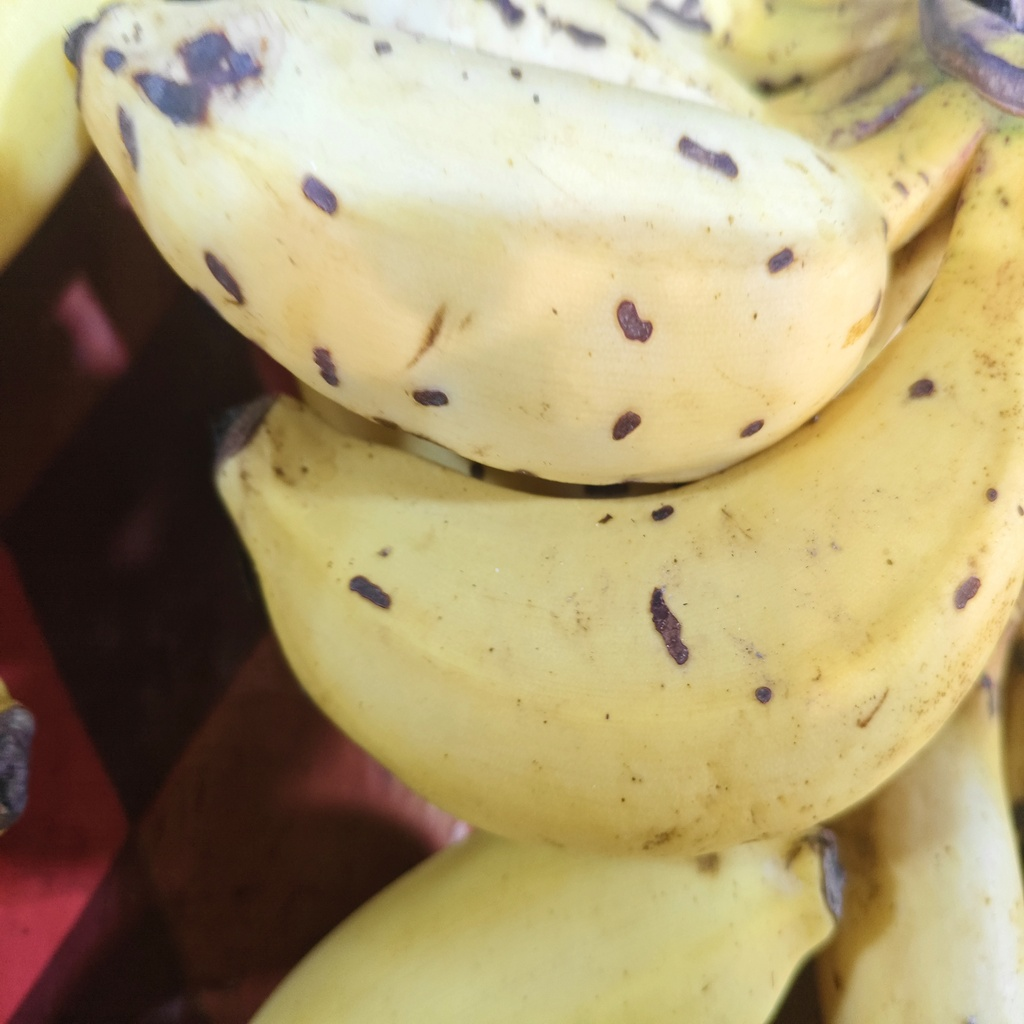unhealthy: (77, 5, 889, 482), (220, 384, 1018, 863)
